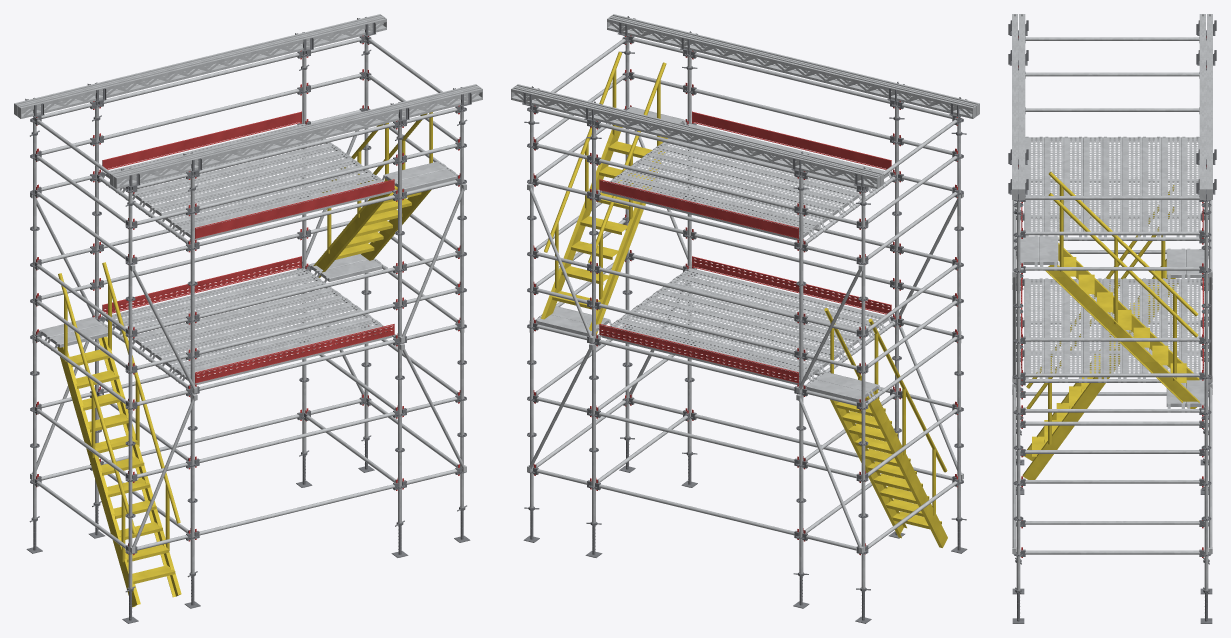
File: allstage-staging-system.glb
3 renders of one model, left to right at view 1: azimuth 30°, elevation 25°; view 2: azimuth 150°, elevation 25°; view 3: azimuth 270°, elevation 25°, orthographic.
Parts seen in each view (by area): view 1: DeckPlanks, Ledgers, AccessStairs, LatticeBeams(context), Verticals, ToeGuards, DiagonalBraces, LedgerHeads, Rosettes, BaseJacks, U-HeadJacks, Wedges; view 2: DeckPlanks, Ledgers, AccessStairs, LatticeBeams(context), Verticals, ToeGuards, DiagonalBraces, LedgerHeads, Rosettes, BaseJacks, U-HeadJacks, Wedges; view 3: DeckPlanks, Ledgers, AccessStairs, LatticeBeams(context), Verticals, DiagonalBraces, Rosettes, LedgerHeads, U-HeadJacks, BaseJacks, RosetteHoles, ToeGuards.
Boxes of the visible parts, x1=… form: DeckPlanks: x1=33, y1=123, x2=457, y2=388; Ledgers: x1=36, y1=37, x2=457, y2=550; AccessStairs: x1=57, y1=112, x2=432, y2=607; LatticeBeams(context): x1=14, y1=14, x2=482, y2=188; Verticals: x1=32, y1=41, x2=464, y2=588; ToeGuards: x1=102, y1=111, x2=394, y2=383; DiagonalBraces: x1=30, y1=130, x2=466, y2=553; LedgerHeads: x1=34, y1=35, x2=460, y2=553; Rosettes: x1=30, y1=39, x2=466, y2=554; BaseJacks: x1=26, y1=435, x2=470, y2=623; U-HeadJacks: x1=25, y1=17, x2=471, y2=206; Wedges: x1=36, y1=35, x2=460, y2=555; DeckPlanks: x1=536, y1=106, x2=895, y2=406; Ledgers: x1=536, y1=37, x2=957, y2=550; AccessStairs: x1=541, y1=51, x2=947, y2=547; LatticeBeams(context): x1=511, y1=14, x2=979, y2=188; Verticals: x1=529, y1=41, x2=961, y2=588; ToeGuards: x1=599, y1=111, x2=891, y2=383; DiagonalBraces: x1=527, y1=130, x2=963, y2=553; LedgerHeads: x1=533, y1=35, x2=959, y2=553; Rosettes: x1=527, y1=39, x2=963, y2=554; BaseJacks: x1=523, y1=436, x2=967, y2=623; U-HeadJacks: x1=522, y1=16, x2=966, y2=205; Wedges: x1=533, y1=35, x2=957, y2=555; DeckPlanks: x1=1020, y1=136, x2=1204, y2=412; Ledgers: x1=1018, y1=37, x2=1206, y2=554; AccessStairs: x1=1022, y1=172, x2=1199, y2=479; LatticeBeams(context): x1=1012, y1=14, x2=1212, y2=199; Verticals: x1=1016, y1=201, x2=1208, y2=590; DiagonalBraces: x1=1012, y1=200, x2=1212, y2=553; Rosettes: x1=1013, y1=199, x2=1211, y2=556; LedgerHeads: x1=1018, y1=36, x2=1206, y2=556; U-HeadJacks: x1=1008, y1=20, x2=1216, y2=215; BaseJacks: x1=1012, y1=429, x2=1212, y2=623; RosetteHoles: x1=1014, y1=200, x2=1210, y2=555; ToeGuards: x1=1021, y1=207, x2=1203, y2=370.
Size of the model in its own units: 5.3 by 6.21 by 2.66.
Materials: 5 (5 with a texture image).
